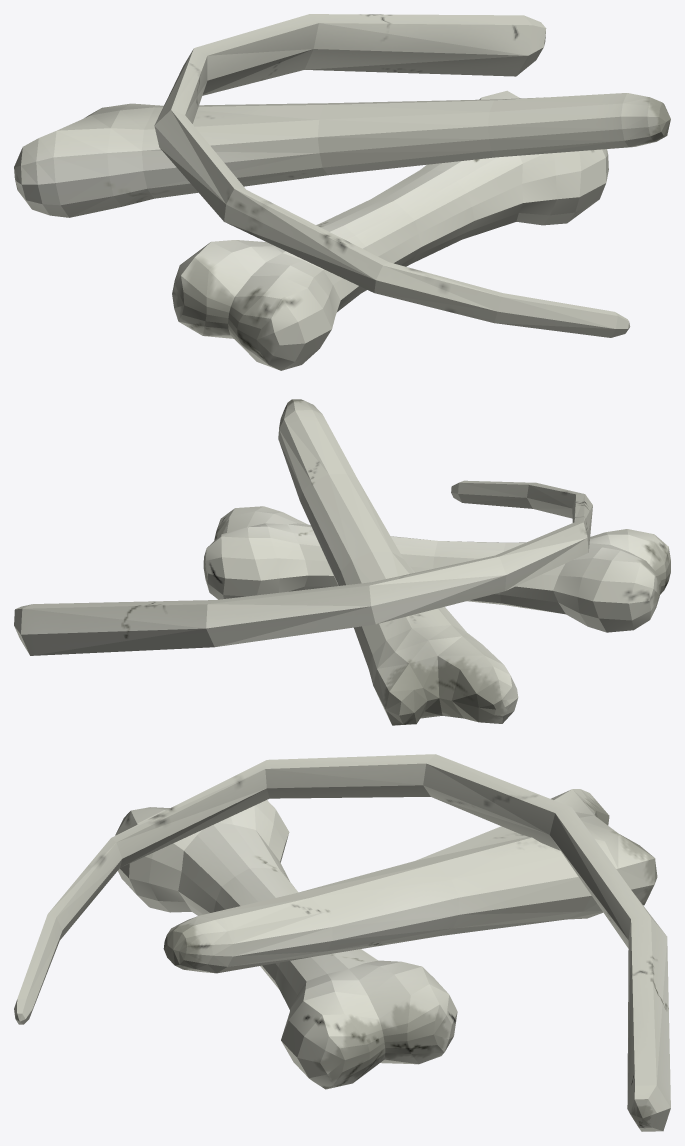
Rendered from Pile_20220506.obj.
The picture shows the model from 3 angles, top to bottom: view 1: azimuth 30°, elevation 25°; view 2: azimuth 150°, elevation 25°; view 3: azimuth 270°, elevation 25°; orthographic projection. The views are drawn at different scales.
Parts seen in each view (by area): view 1: pile; view 2: pile; view 3: pile.
Part boxes in pixels (bbox=[...]): pile: bbox=[14, 14, 670, 370]; pile: bbox=[14, 399, 670, 725]; pile: bbox=[14, 754, 670, 1131].
Size of the model in its own units: 1.33 by 0.3673 by 1.3.
